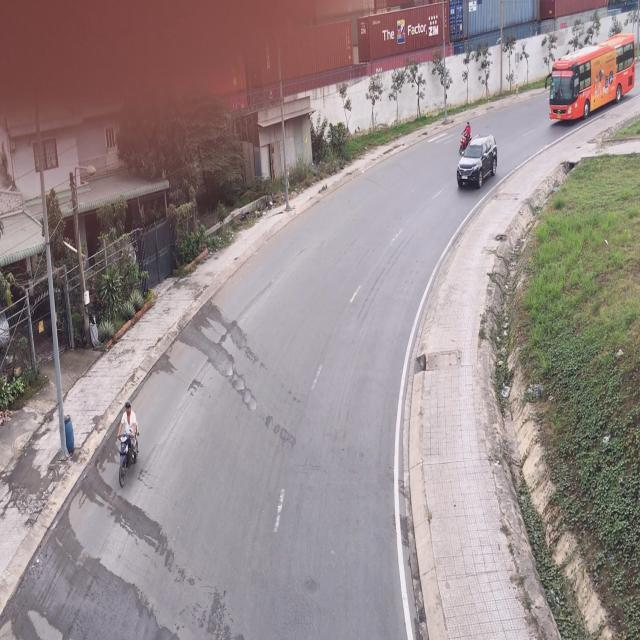bus: (548, 33, 639, 126)
car: (458, 137, 499, 193)
motorbike: (118, 402, 142, 482), (457, 122, 471, 154)
